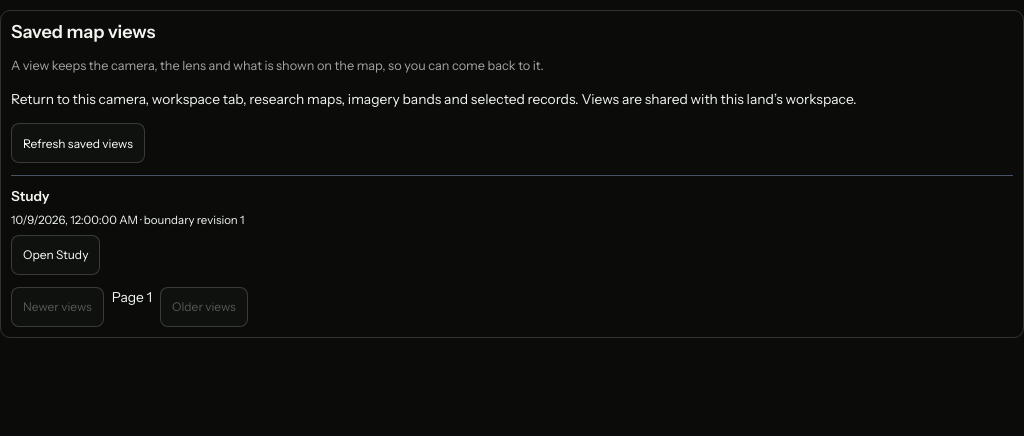
Test: restores map sources, band and camera while preserving unfinished map overlays
Check: the heading "Saved map views" is shown, box [11, 21, 155, 43]
Click the button "Open Study": coordinates (56, 255) [11, 235, 100, 275]
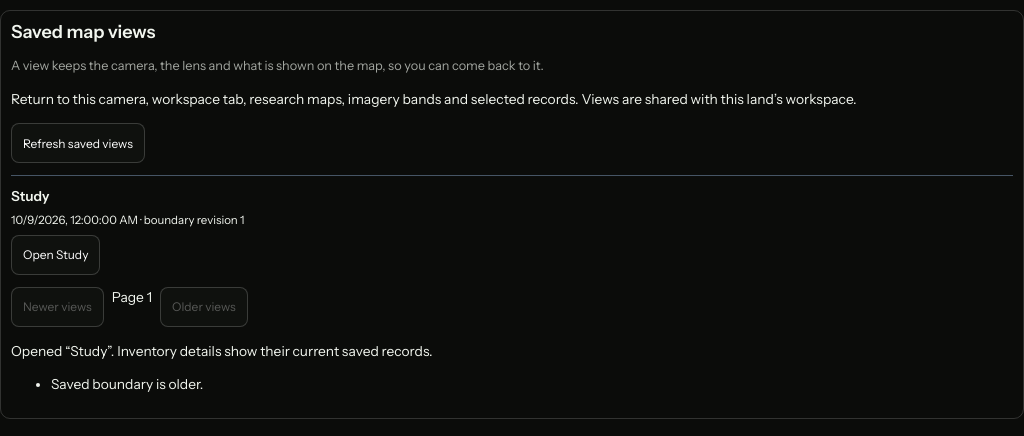
Check: the list item "Saved boundary is older." is shown, box [51, 376, 203, 392]
